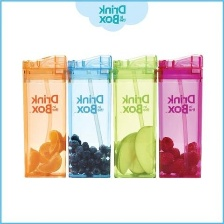carton: (16, 53, 66, 181), (157, 52, 207, 178), (68, 52, 112, 183), (113, 53, 158, 180)
